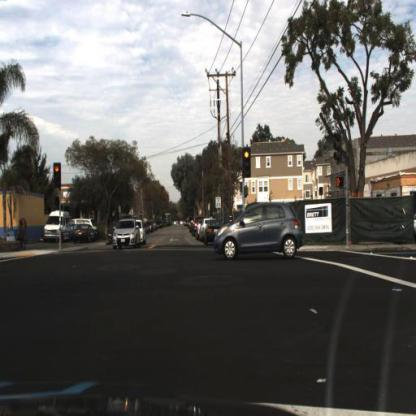car: (212, 198, 305, 264), (44, 209, 74, 245), (112, 220, 141, 254), (203, 217, 229, 247)
pedestrian: (16, 219, 29, 251)
trafficLight: (241, 145, 253, 178)
trafficLight-Red: (52, 163, 63, 193), (335, 175, 346, 192)
